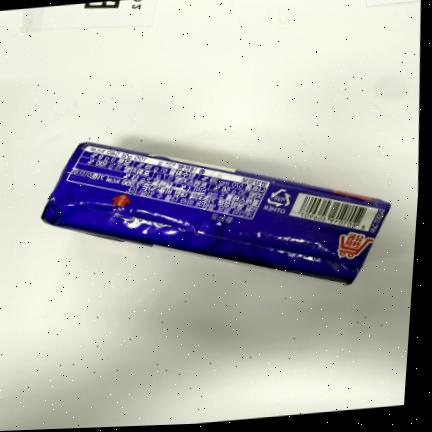cracker_ace: (42, 142, 390, 284)
